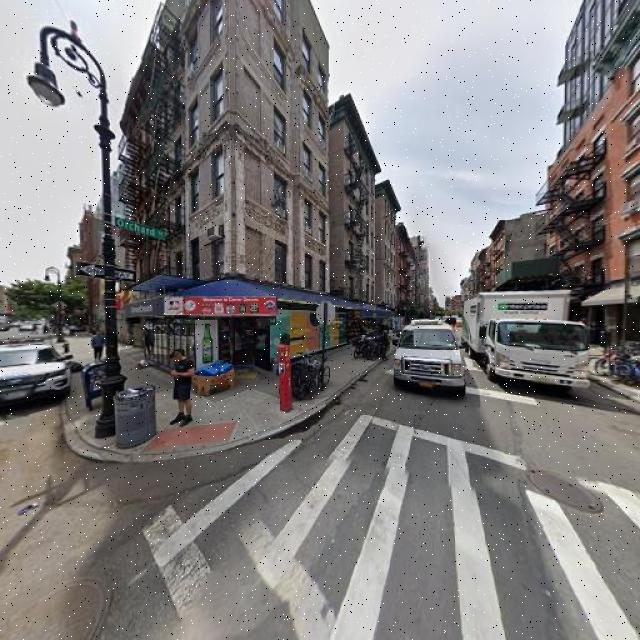Building: (132, 1, 330, 364), (595, 34, 640, 360)
